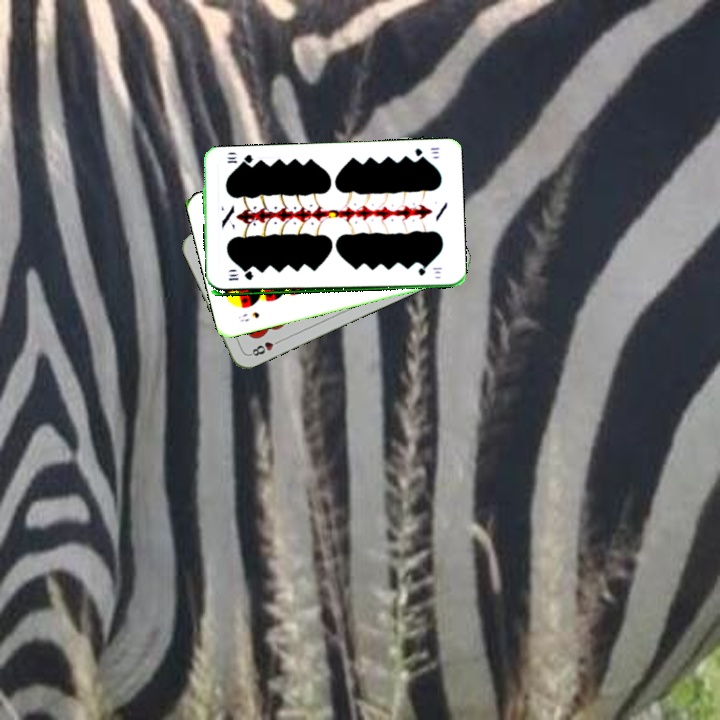G10: (411, 143, 441, 162), (225, 270, 256, 283)
H8: (246, 335, 284, 359)
S8: (234, 308, 262, 324)
